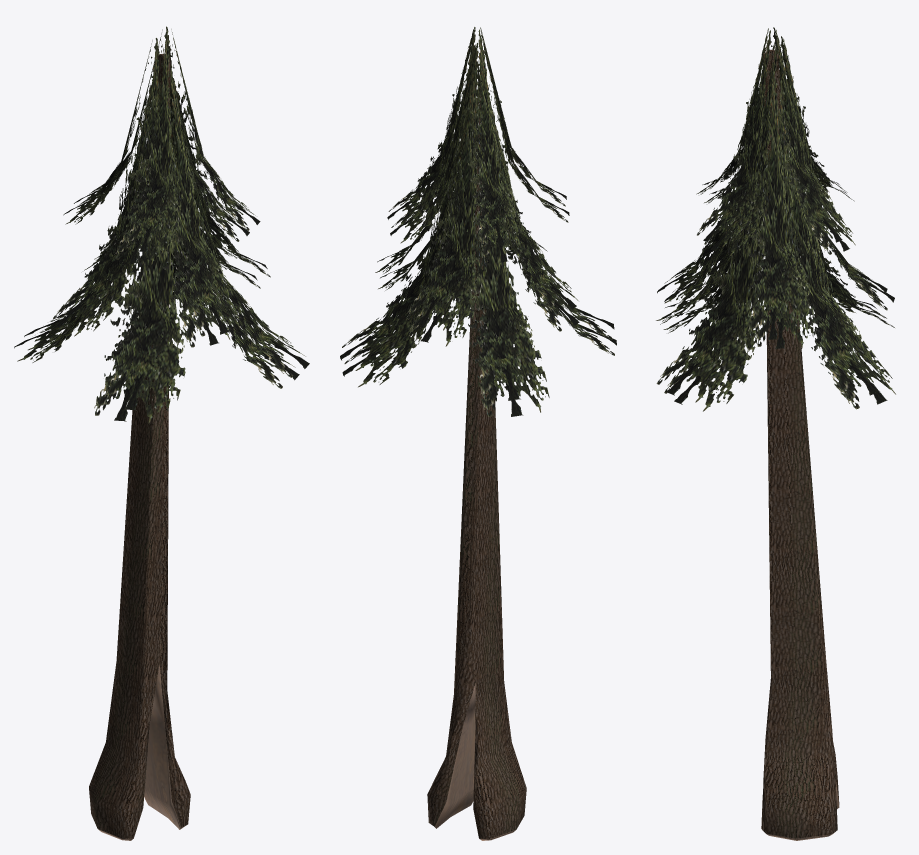
The model's file is LoveDeath_BigPine_Art.glb.
3 renders of one model, left to right at view 1: azimuth 30°, elevation 25°; view 2: azimuth 150°, elevation 25°; view 3: azimuth 270°, elevation 25°, orthographic. The views are drawn at different scales.
Visible parts, largest first — view 1: LoveDeath_BigPine_Art; view 2: LoveDeath_BigPine_Art; view 3: LoveDeath_BigPine_Art.
Boxes of the visible parts, bbox=[...] form: LoveDeath_BigPine_Art: bbox=[14, 26, 309, 840]; LoveDeath_BigPine_Art: bbox=[340, 27, 616, 840]; LoveDeath_BigPine_Art: bbox=[656, 27, 895, 840].
Bounding box in the file's own units: 8.6 × 30.02 × 8.6.
2 materials, 2 textured.
